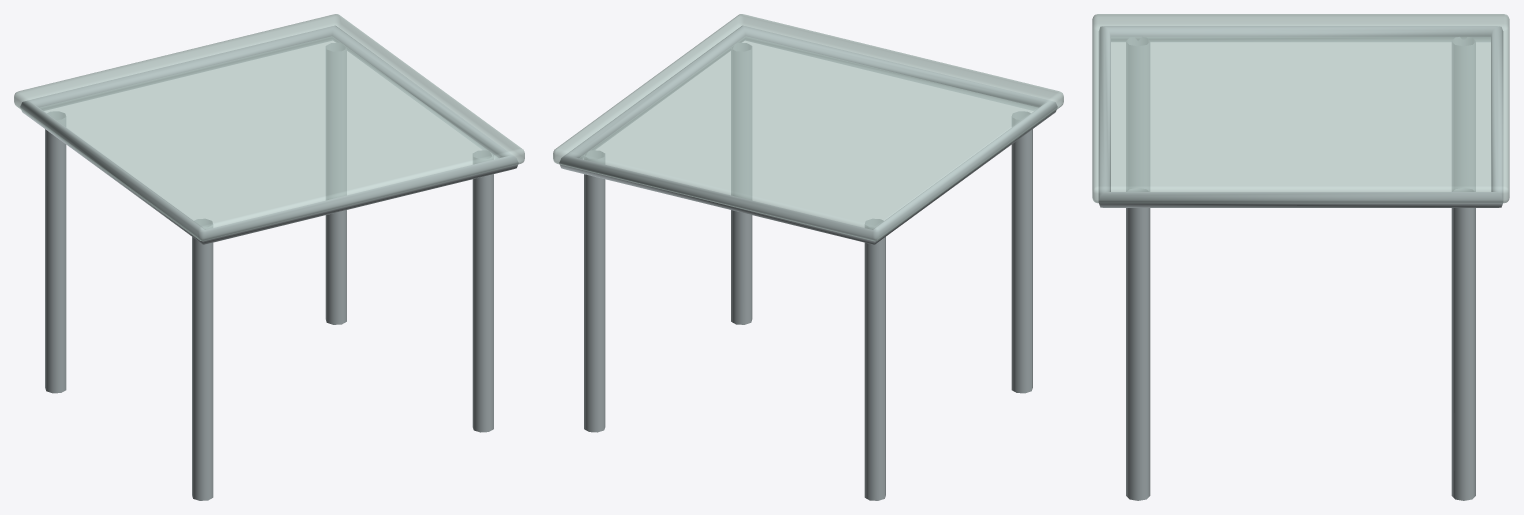
The model's file is prod-1773061941304-uwmda.glb.
The picture shows the model from 3 angles, left to right: view 1: azimuth 30°, elevation 25°; view 2: azimuth 150°, elevation 25°; view 3: azimuth 270°, elevation 25°; orthographic projection. The views are drawn at different scales.
Parts seen in each view (by area): view 1: Table top.007, Table leg.020; view 2: Table top.007, Table leg.020; view 3: Table top.007, Table leg.020.
Boxes of the visible parts, x1,y1,x2,y2 form: Table top.007: (14,14,524,241); Table leg.020: (20,25,518,500); Table top.007: (553,14,1063,241); Table leg.020: (559,25,1057,500); Table top.007: (1092,14,1509,203); Table leg.020: (1098,26,1503,500).
Bounding box in the file's own units: 0.58 × 0.49 × 0.58.
